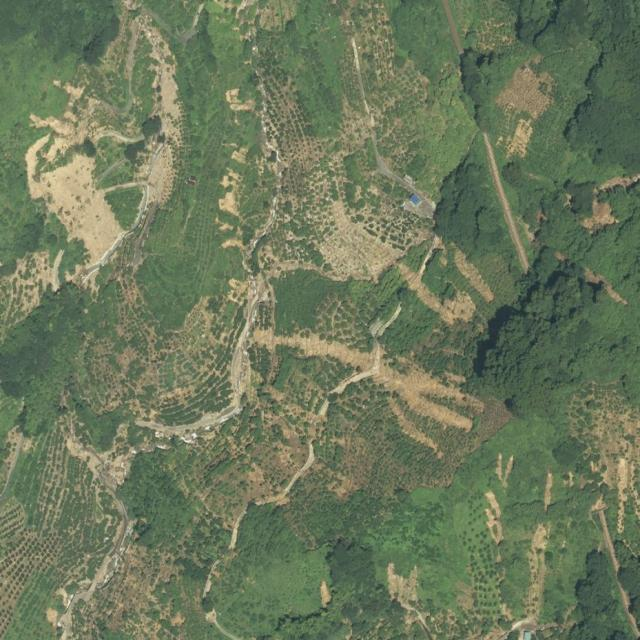landslide: (25, 135, 121, 263)
